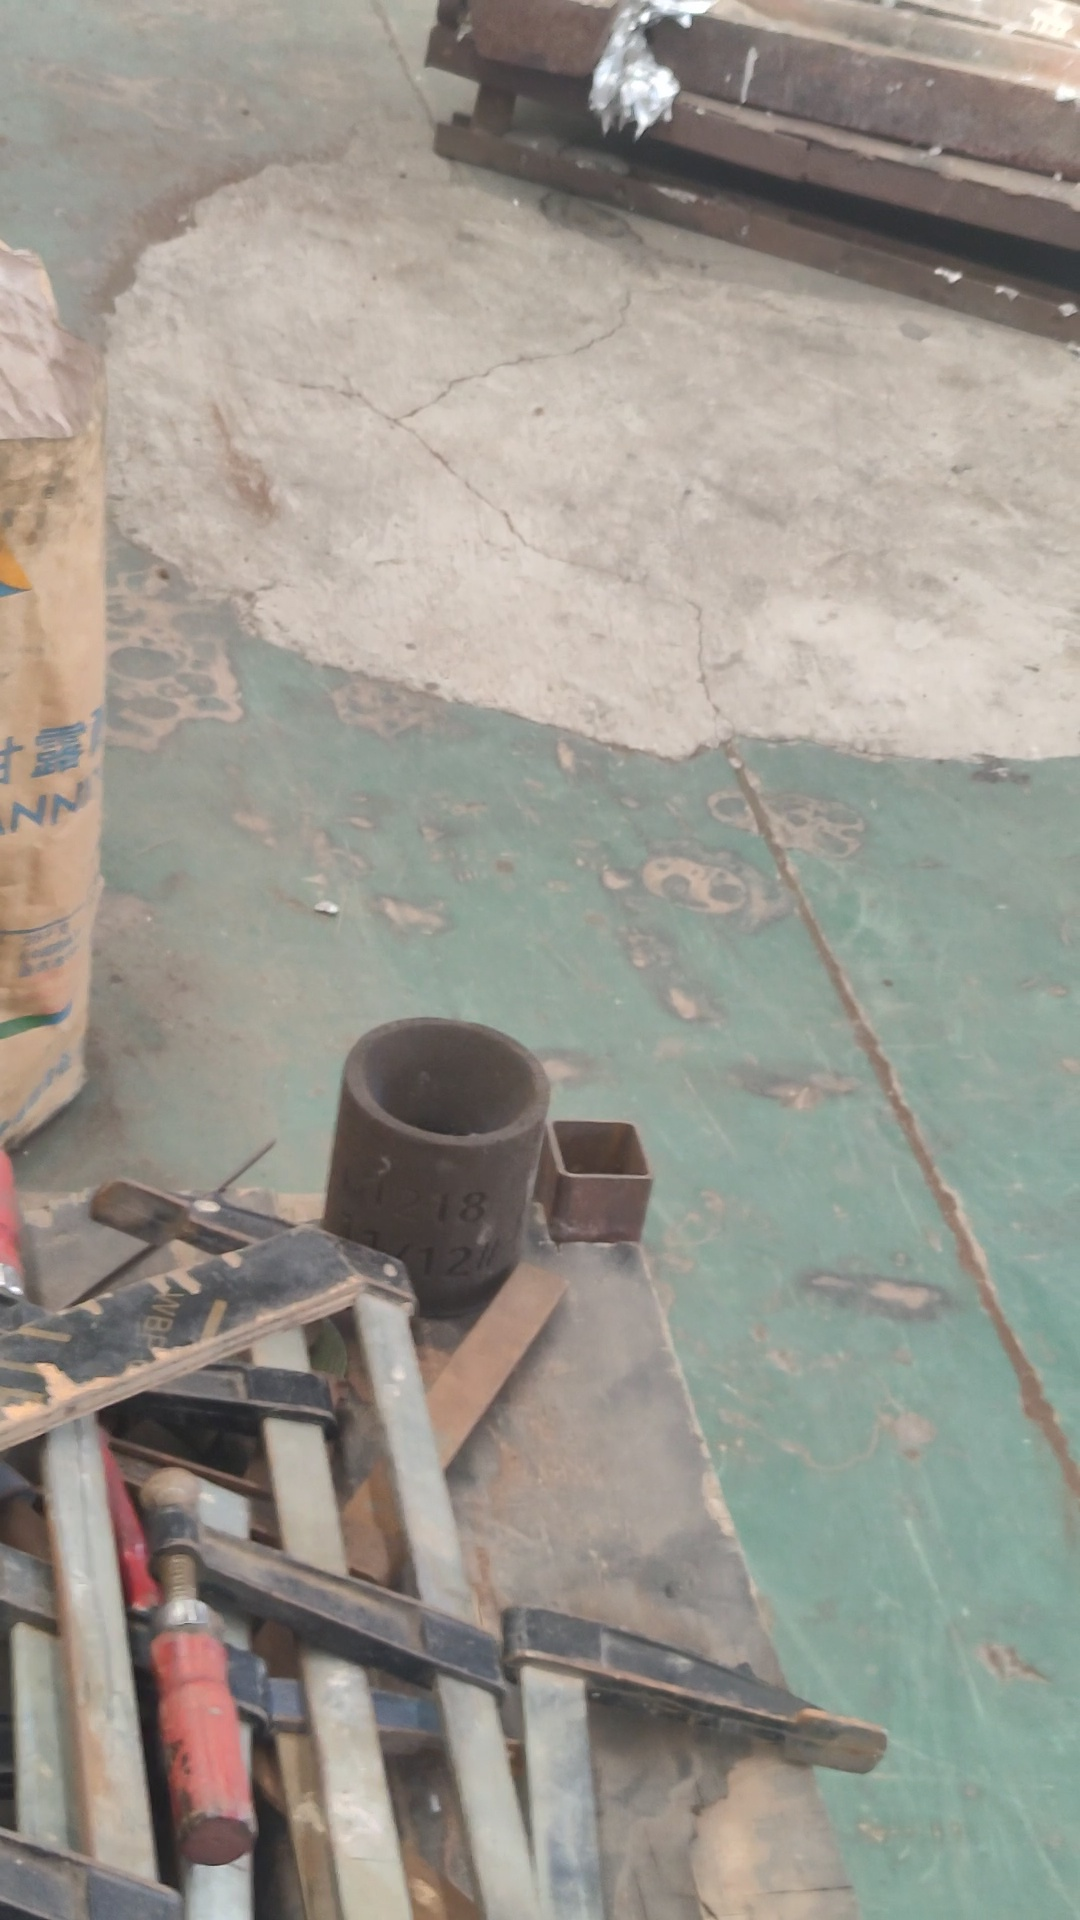pouring hole: (357, 1021, 538, 1137)
